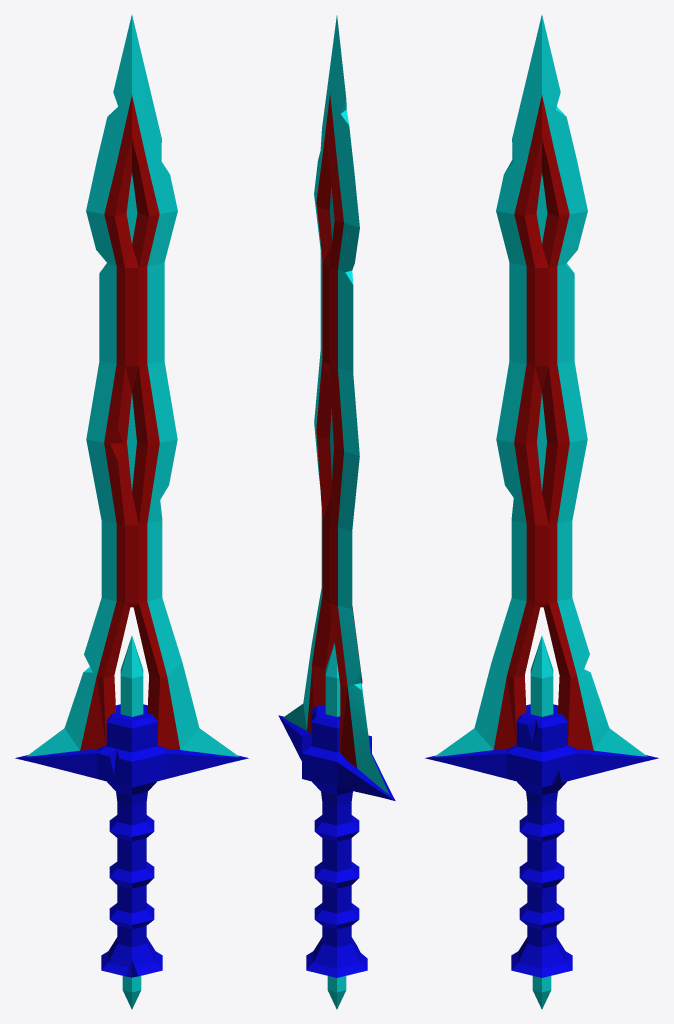
File: Sword_Legendary_Bloodsword.fbx
3 views of the same model, side by side, from view 1: azimuth 90°, elevation 25°; view 2: azimuth 210°, elevation 25°; view 3: azimuth 270°, elevation 25° (orthographic).
Parts seen in each view (by area): view 1: SM_Wep_Sword_Medium_08; view 2: SM_Wep_Sword_Medium_08; view 3: SM_Wep_Sword_Medium_08.
Part boxes in pixels (x1=…): SM_Wep_Sword_Medium_08: x1=15, y1=15, x2=248, y2=1009; SM_Wep_Sword_Medium_08: x1=278, y1=15, x2=395, y2=1009; SM_Wep_Sword_Medium_08: x1=425, y1=15, x2=658, y2=1009.
Size of the model in its own units: 11.07 by 151 by 32.28.
